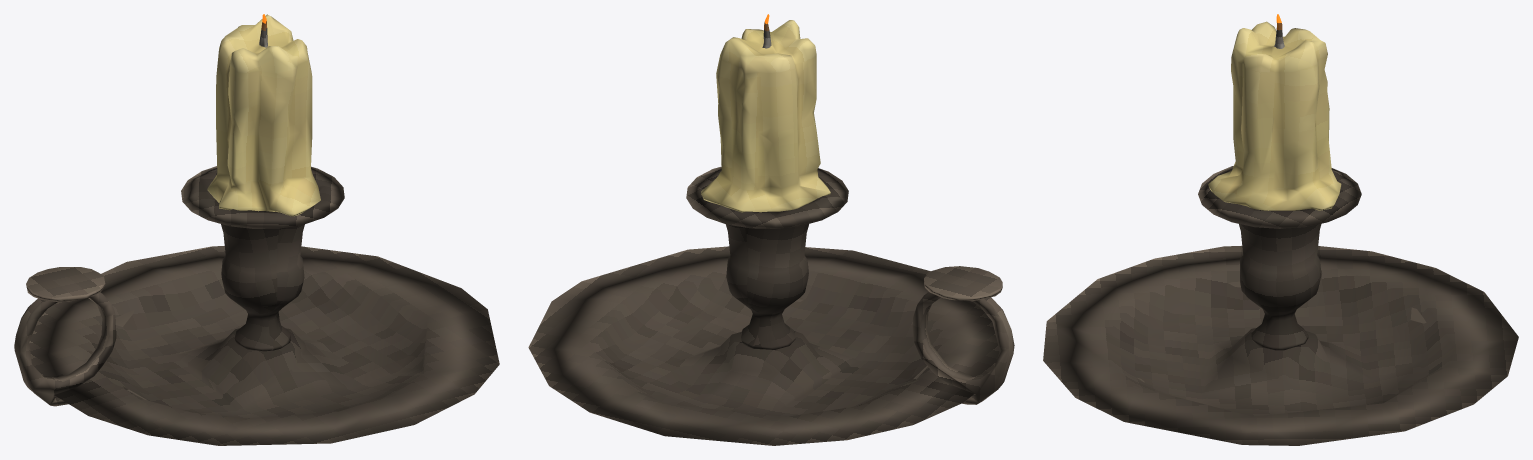
File: candle_stick.glb
The picture shows the model from 3 angles, left to right: view 1: azimuth 30°, elevation 25°; view 2: azimuth 150°, elevation 25°; view 3: azimuth 270°, elevation 25°; orthographic projection.
Parts seen in each view (by area): view 1: trey, candle, stick, ring; view 2: trey, candle, stick, ring; view 3: trey, candle, stick.
Part boxes in pixels (x1=…): trey: x1=29, y1=246, x2=499, y2=445; candle: x1=207, y1=14, x2=320, y2=216; stick: x1=181, y1=166, x2=344, y2=351; ring: x1=14, y1=267, x2=116, y2=406; trey: x1=528, y1=246, x2=999, y2=445; candle: x1=701, y1=20, x2=830, y2=212; stick: x1=686, y1=166, x2=848, y2=349; ring: x1=912, y1=266, x2=1014, y2=404; trey: x1=1043, y1=245, x2=1518, y2=445; candle: x1=1208, y1=21, x2=1341, y2=210; stick: x1=1198, y1=166, x2=1361, y2=350.
Size of the model in its own units: 0.1391 by 0.1091 by 0.1269.
1 material, 1 textured.
